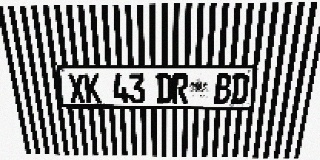3: (128, 74, 145, 103)
4: (112, 74, 129, 103)
B: (214, 74, 232, 104)
D: (230, 74, 249, 104), (156, 74, 172, 103)
K: (83, 74, 102, 103)
R: (172, 74, 189, 103)
X: (67, 74, 86, 103)
